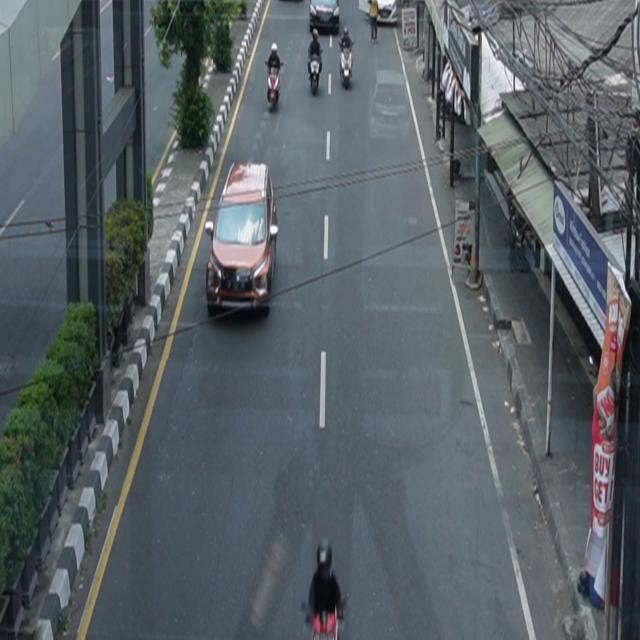car: (206, 161, 279, 316), (310, 1, 341, 35)
